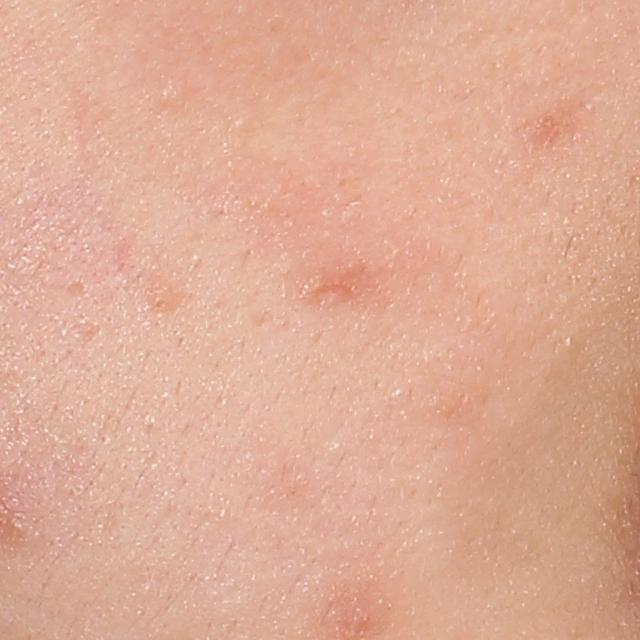atrophic_scar: (61, 280, 89, 298)
comedo: (146, 283, 177, 315)
